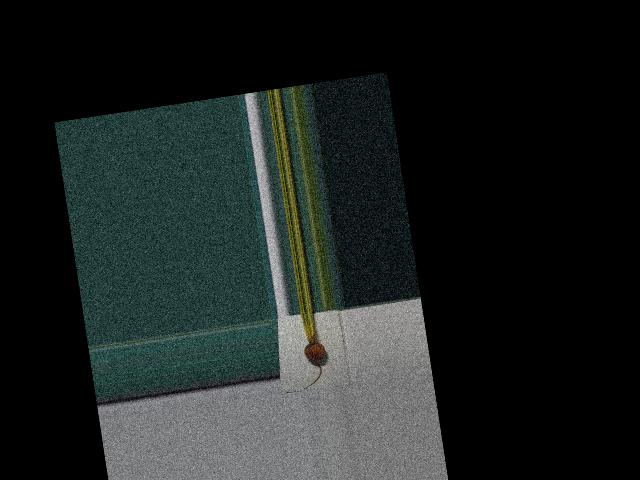beet: (293, 311, 330, 389)
